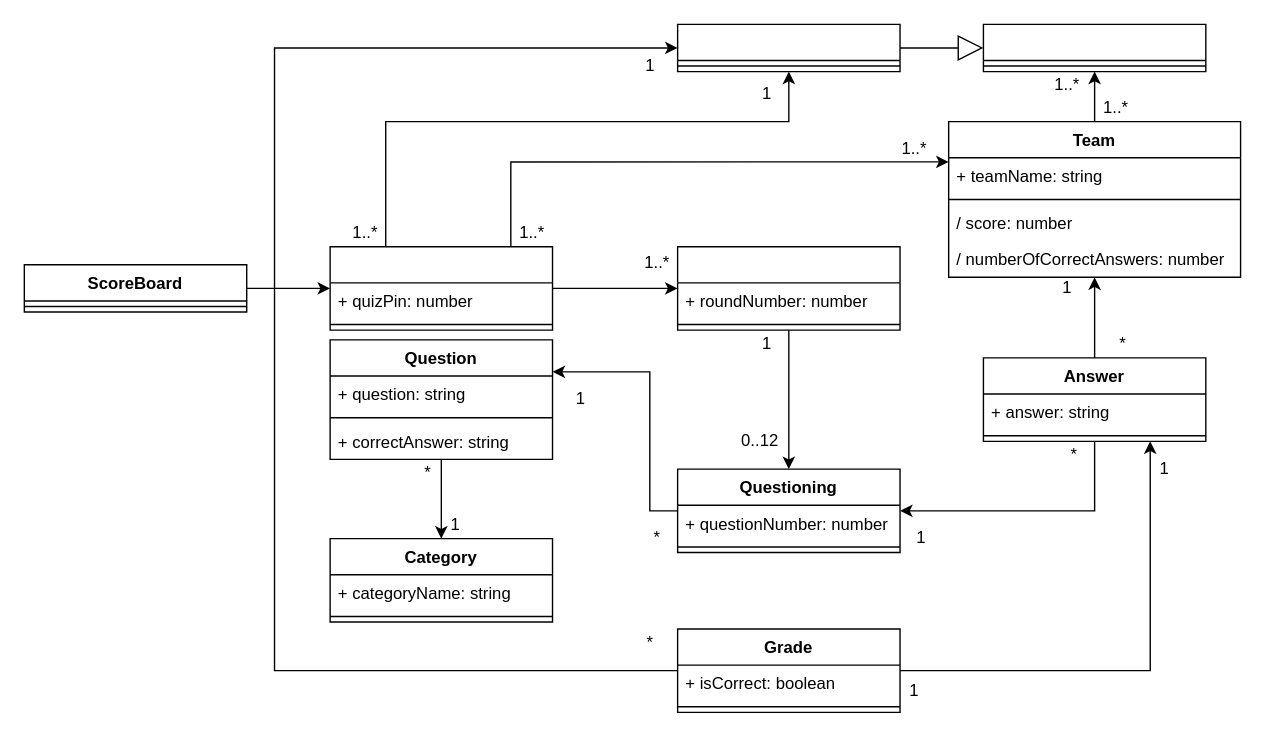
This 1265x737 diagram has some shape labels left out. Here are the shapes that lost their labels. From the top down, the box of each, then its label:
(676, 23, 900, 72): QuizMaster
(982, 23, 1206, 72): Person
(329, 245, 553, 330): QuizNight
(676, 245, 900, 330): QuizRound
